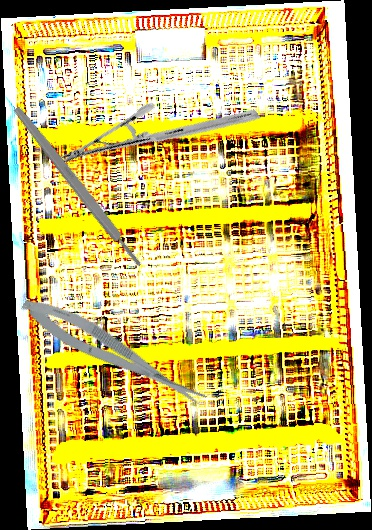Micro Scissor: (16, 287, 211, 420)
Needle Holder: (59, 38, 262, 235)
Scalpel Handle: (11, 104, 145, 270)
